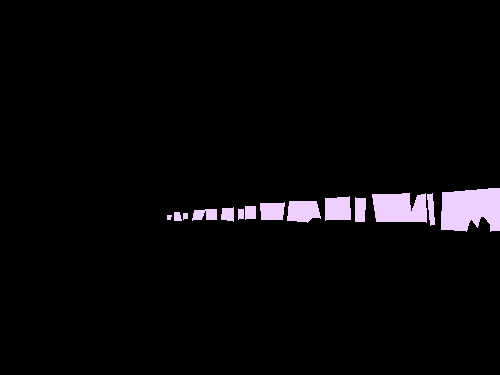Train: (167, 187, 500, 231)
